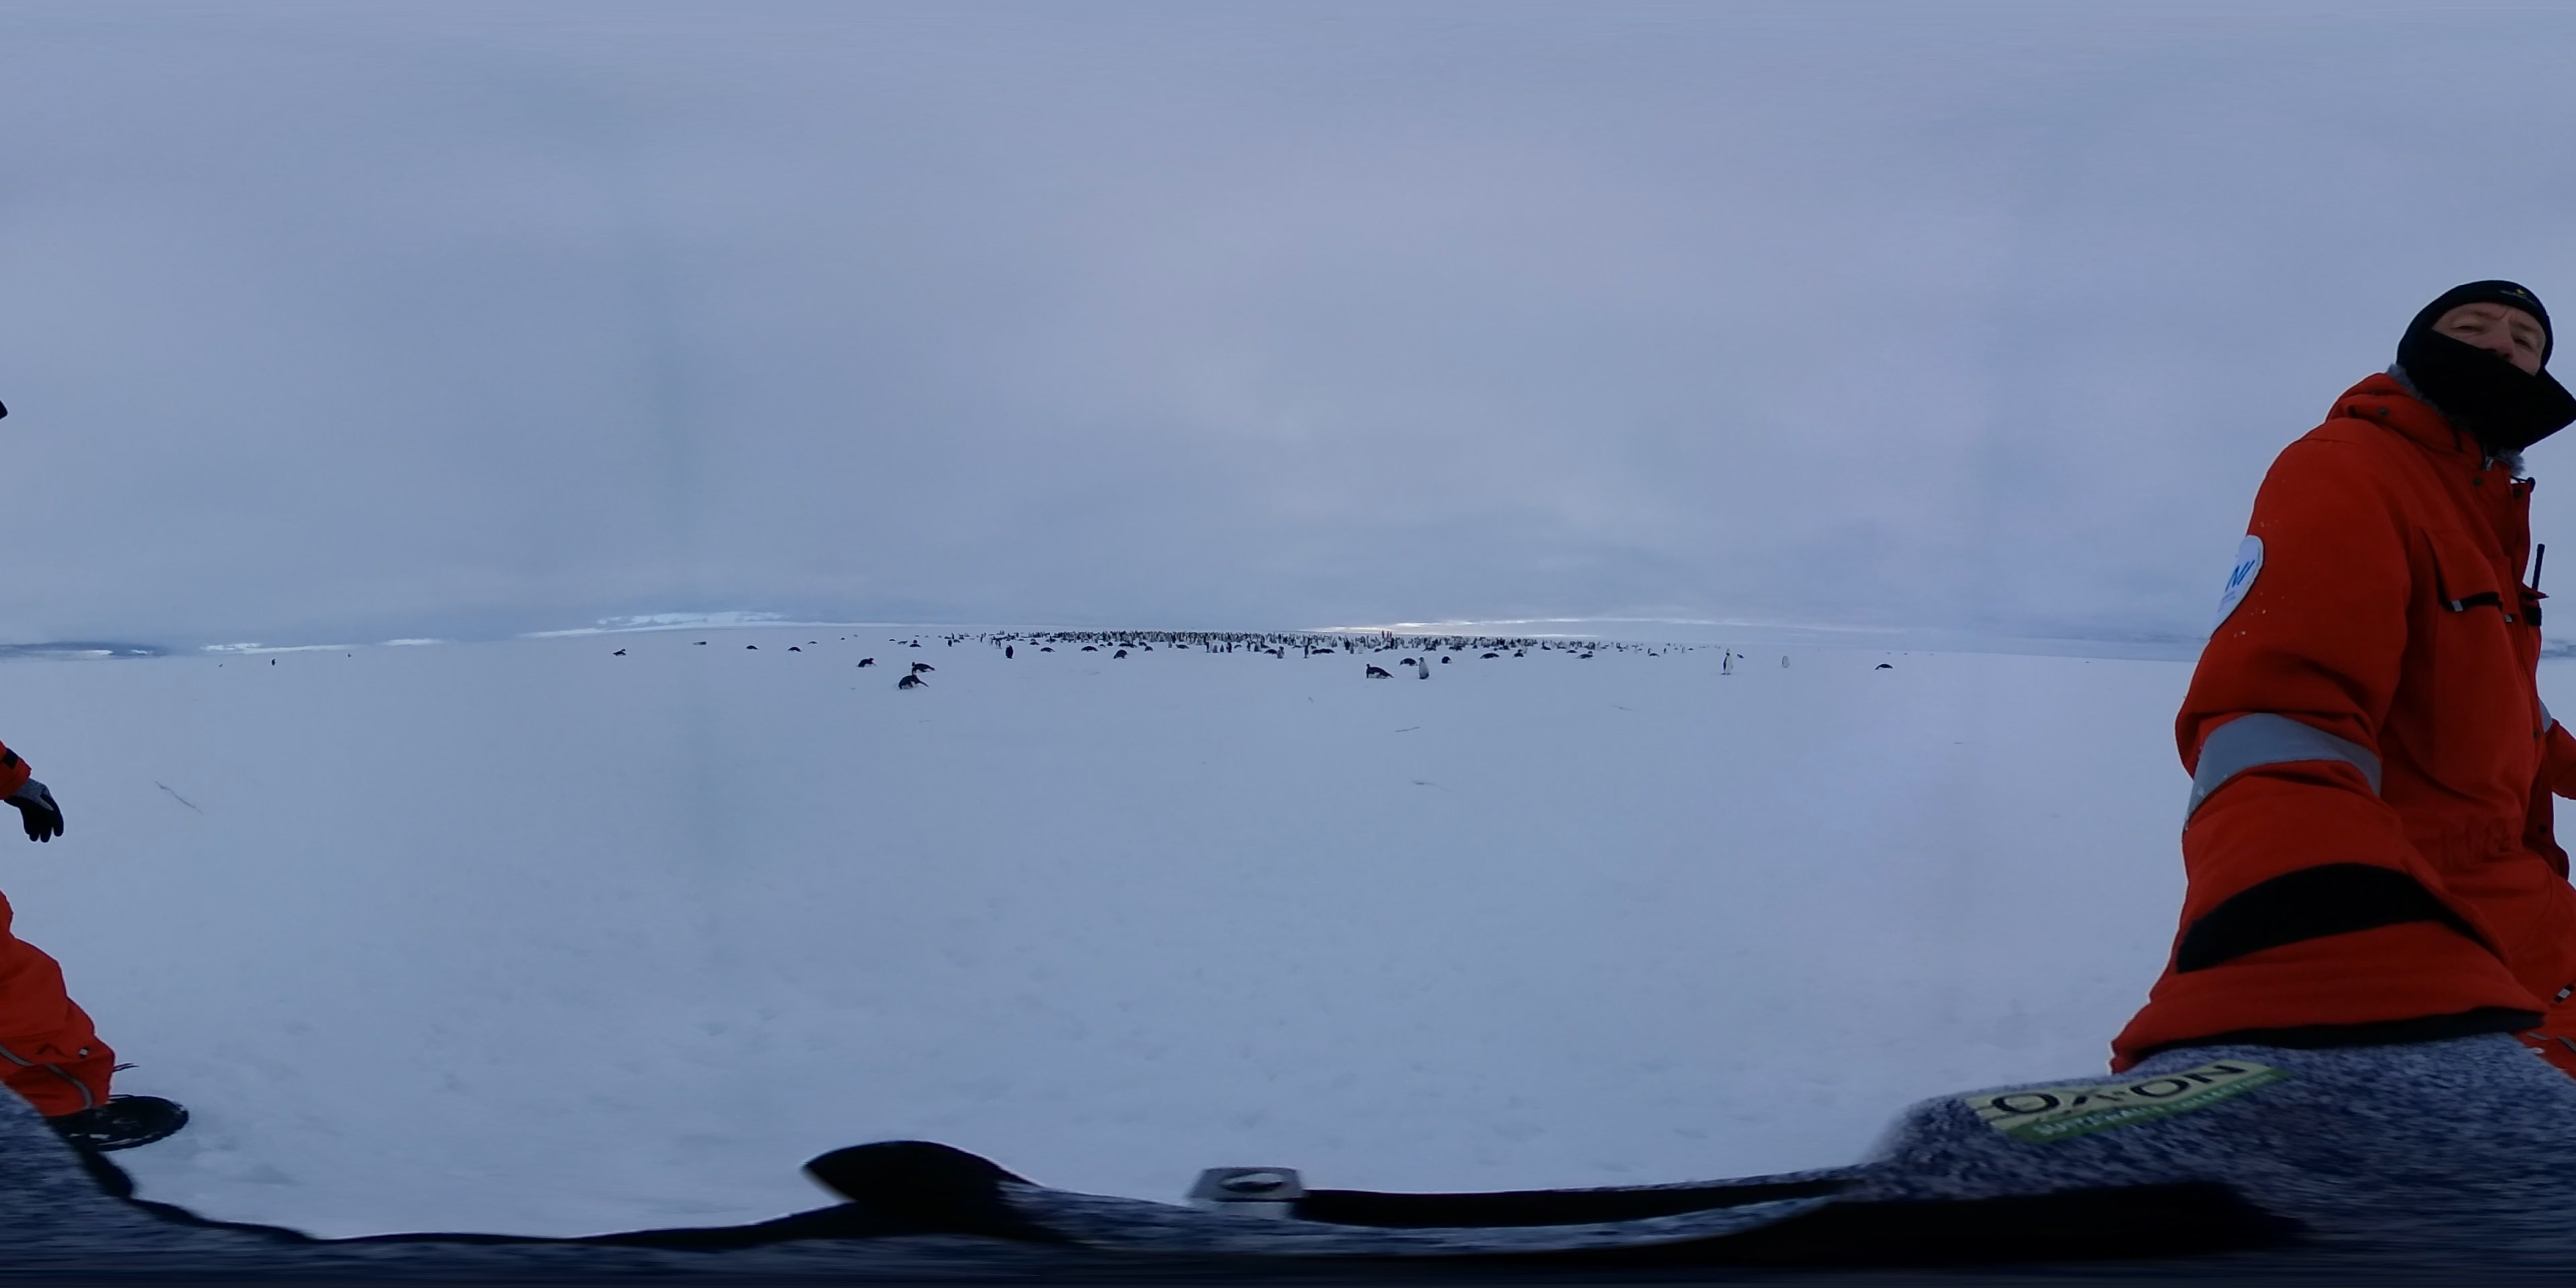adult_standing_penguin: (1718, 652, 1730, 675), (1778, 655, 1792, 669)
adult_toboggan_penguin: (892, 672, 935, 692), (1364, 662, 1395, 682), (907, 660, 940, 675), (856, 655, 877, 667), (1396, 657, 1418, 669), (1477, 651, 1500, 660), (1873, 662, 1893, 672), (1112, 647, 1129, 659)
juvenile_penguin: (1416, 654, 1431, 682)
researcher: (2147, 274, 2576, 1120)
